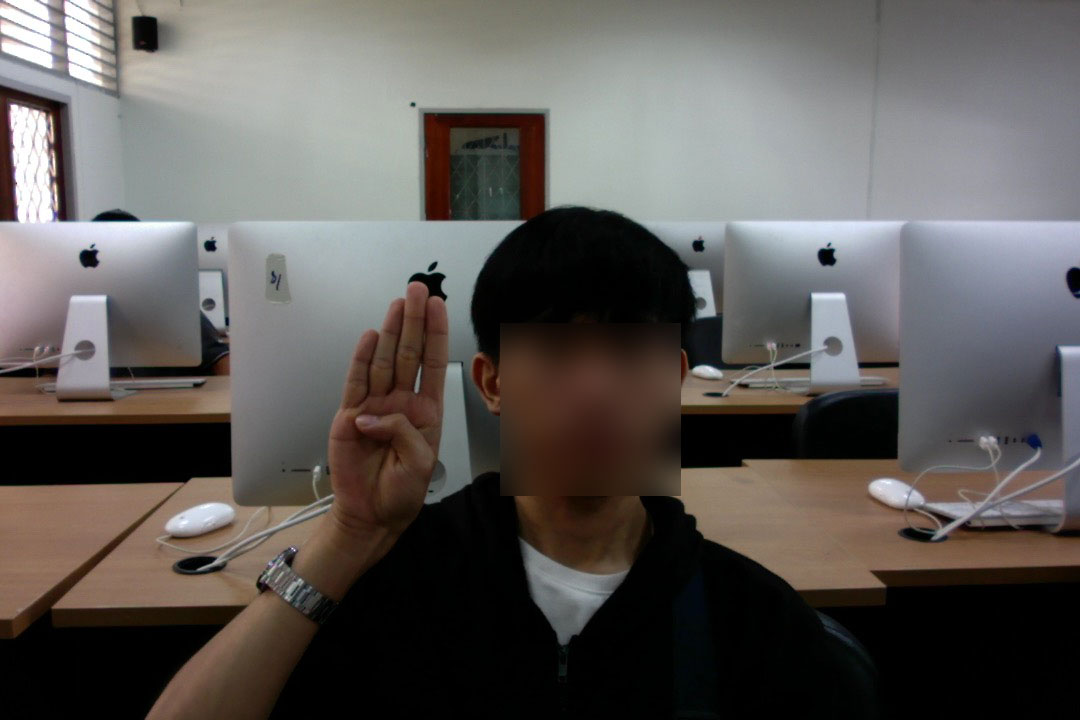bor: (319, 275, 455, 551)
